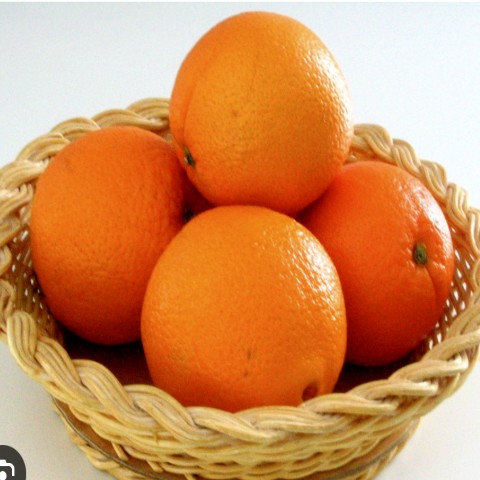orange: (135, 182, 362, 444), (8, 120, 206, 339), (157, 0, 353, 200), (290, 151, 470, 335)
